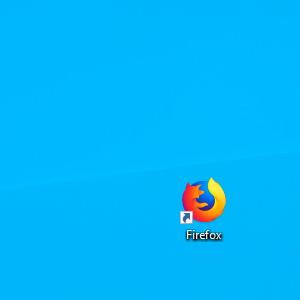firefox: (180, 177, 227, 224)
